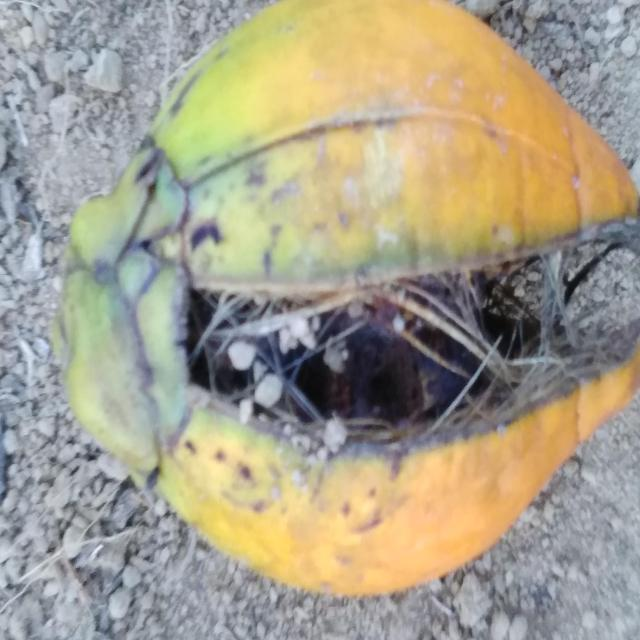damaged: (48, 0, 640, 605)
